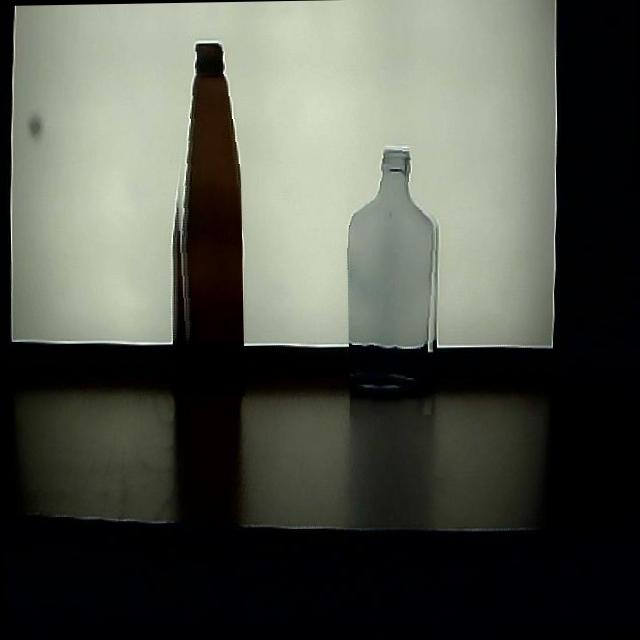Glass: (167, 38, 244, 396), (345, 144, 443, 416)
